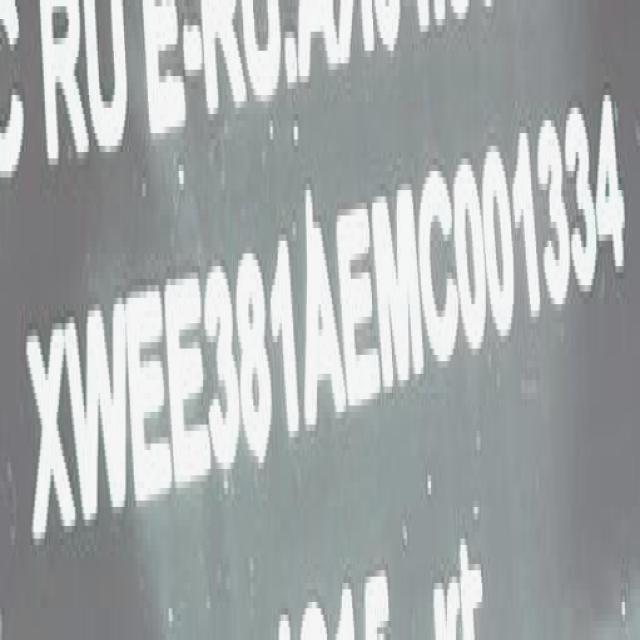0: (484, 138, 516, 344), (458, 153, 490, 354)
1: (272, 239, 304, 452), (514, 125, 540, 334)
3: (207, 263, 242, 485), (540, 109, 572, 315), (567, 97, 598, 304)
4: (596, 90, 630, 290)
8: (238, 252, 270, 466)
A: (303, 222, 344, 438)
C: (420, 170, 460, 377)
E: (170, 269, 211, 502), (133, 287, 174, 519), (343, 198, 381, 418)
M: (380, 183, 426, 400)
W: (72, 298, 134, 536)
X: (30, 321, 74, 553)
